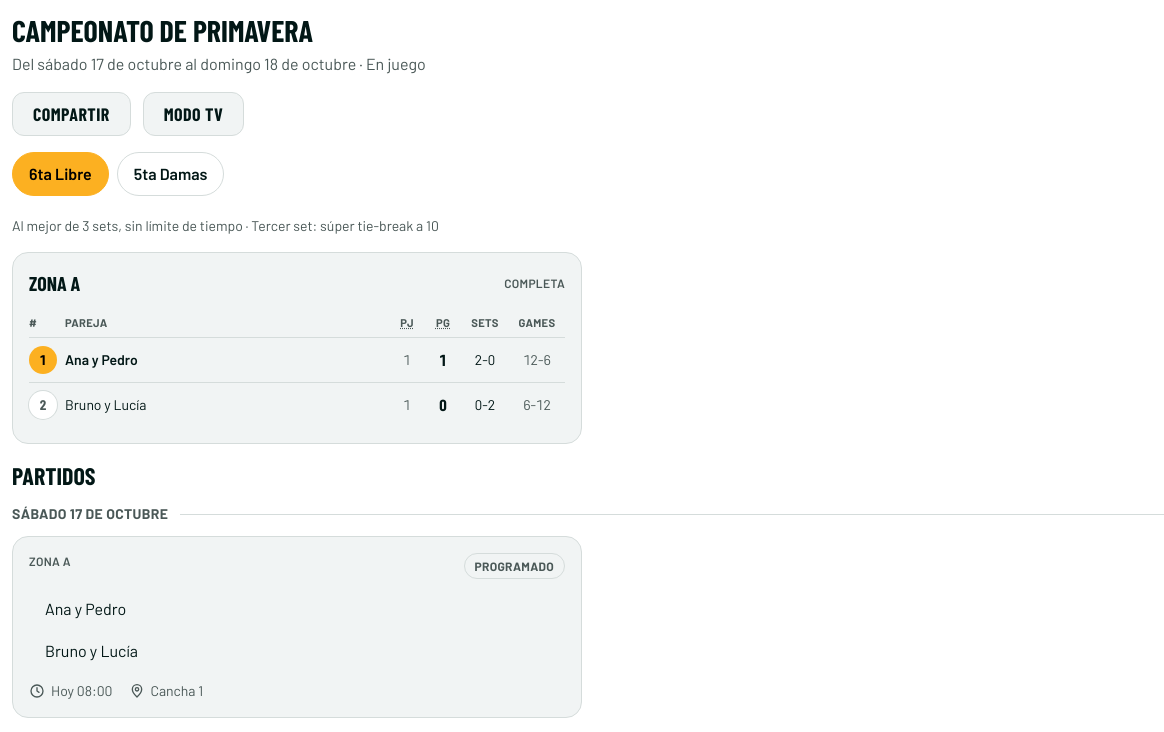
Scenario: PublicBoard › shows each category in its tab: groups, bracket and matches by day
Expected: the heading "Campeonato de Primavera" is shown, top-left (12, 12), bottom-right (313, 48)
Expected: the panel shows "Zona A", top-left (29, 271), bottom-right (80, 295)
Step 1. Click the tab "5ta Damas" → x=171, y=174, box top-left (117, 152), bottom-right (224, 196)
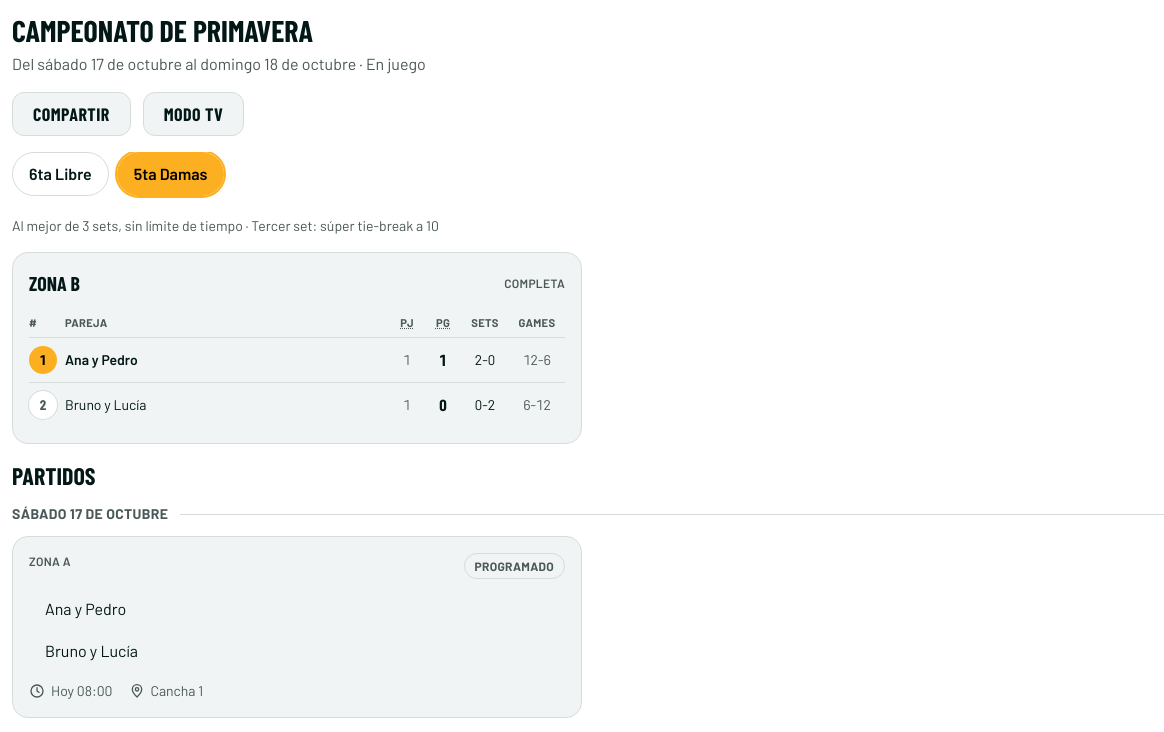
Expected: the button "Compartir" is shown, top-left (12, 92), bottom-right (131, 136)
Expected: the panel shows "Zona B", top-left (29, 271), bottom-right (80, 295)
